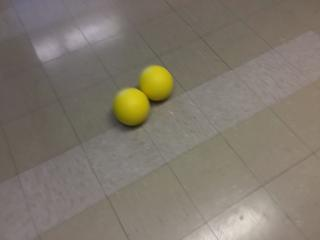power_cell: (111, 87, 153, 128), (139, 64, 176, 104)
